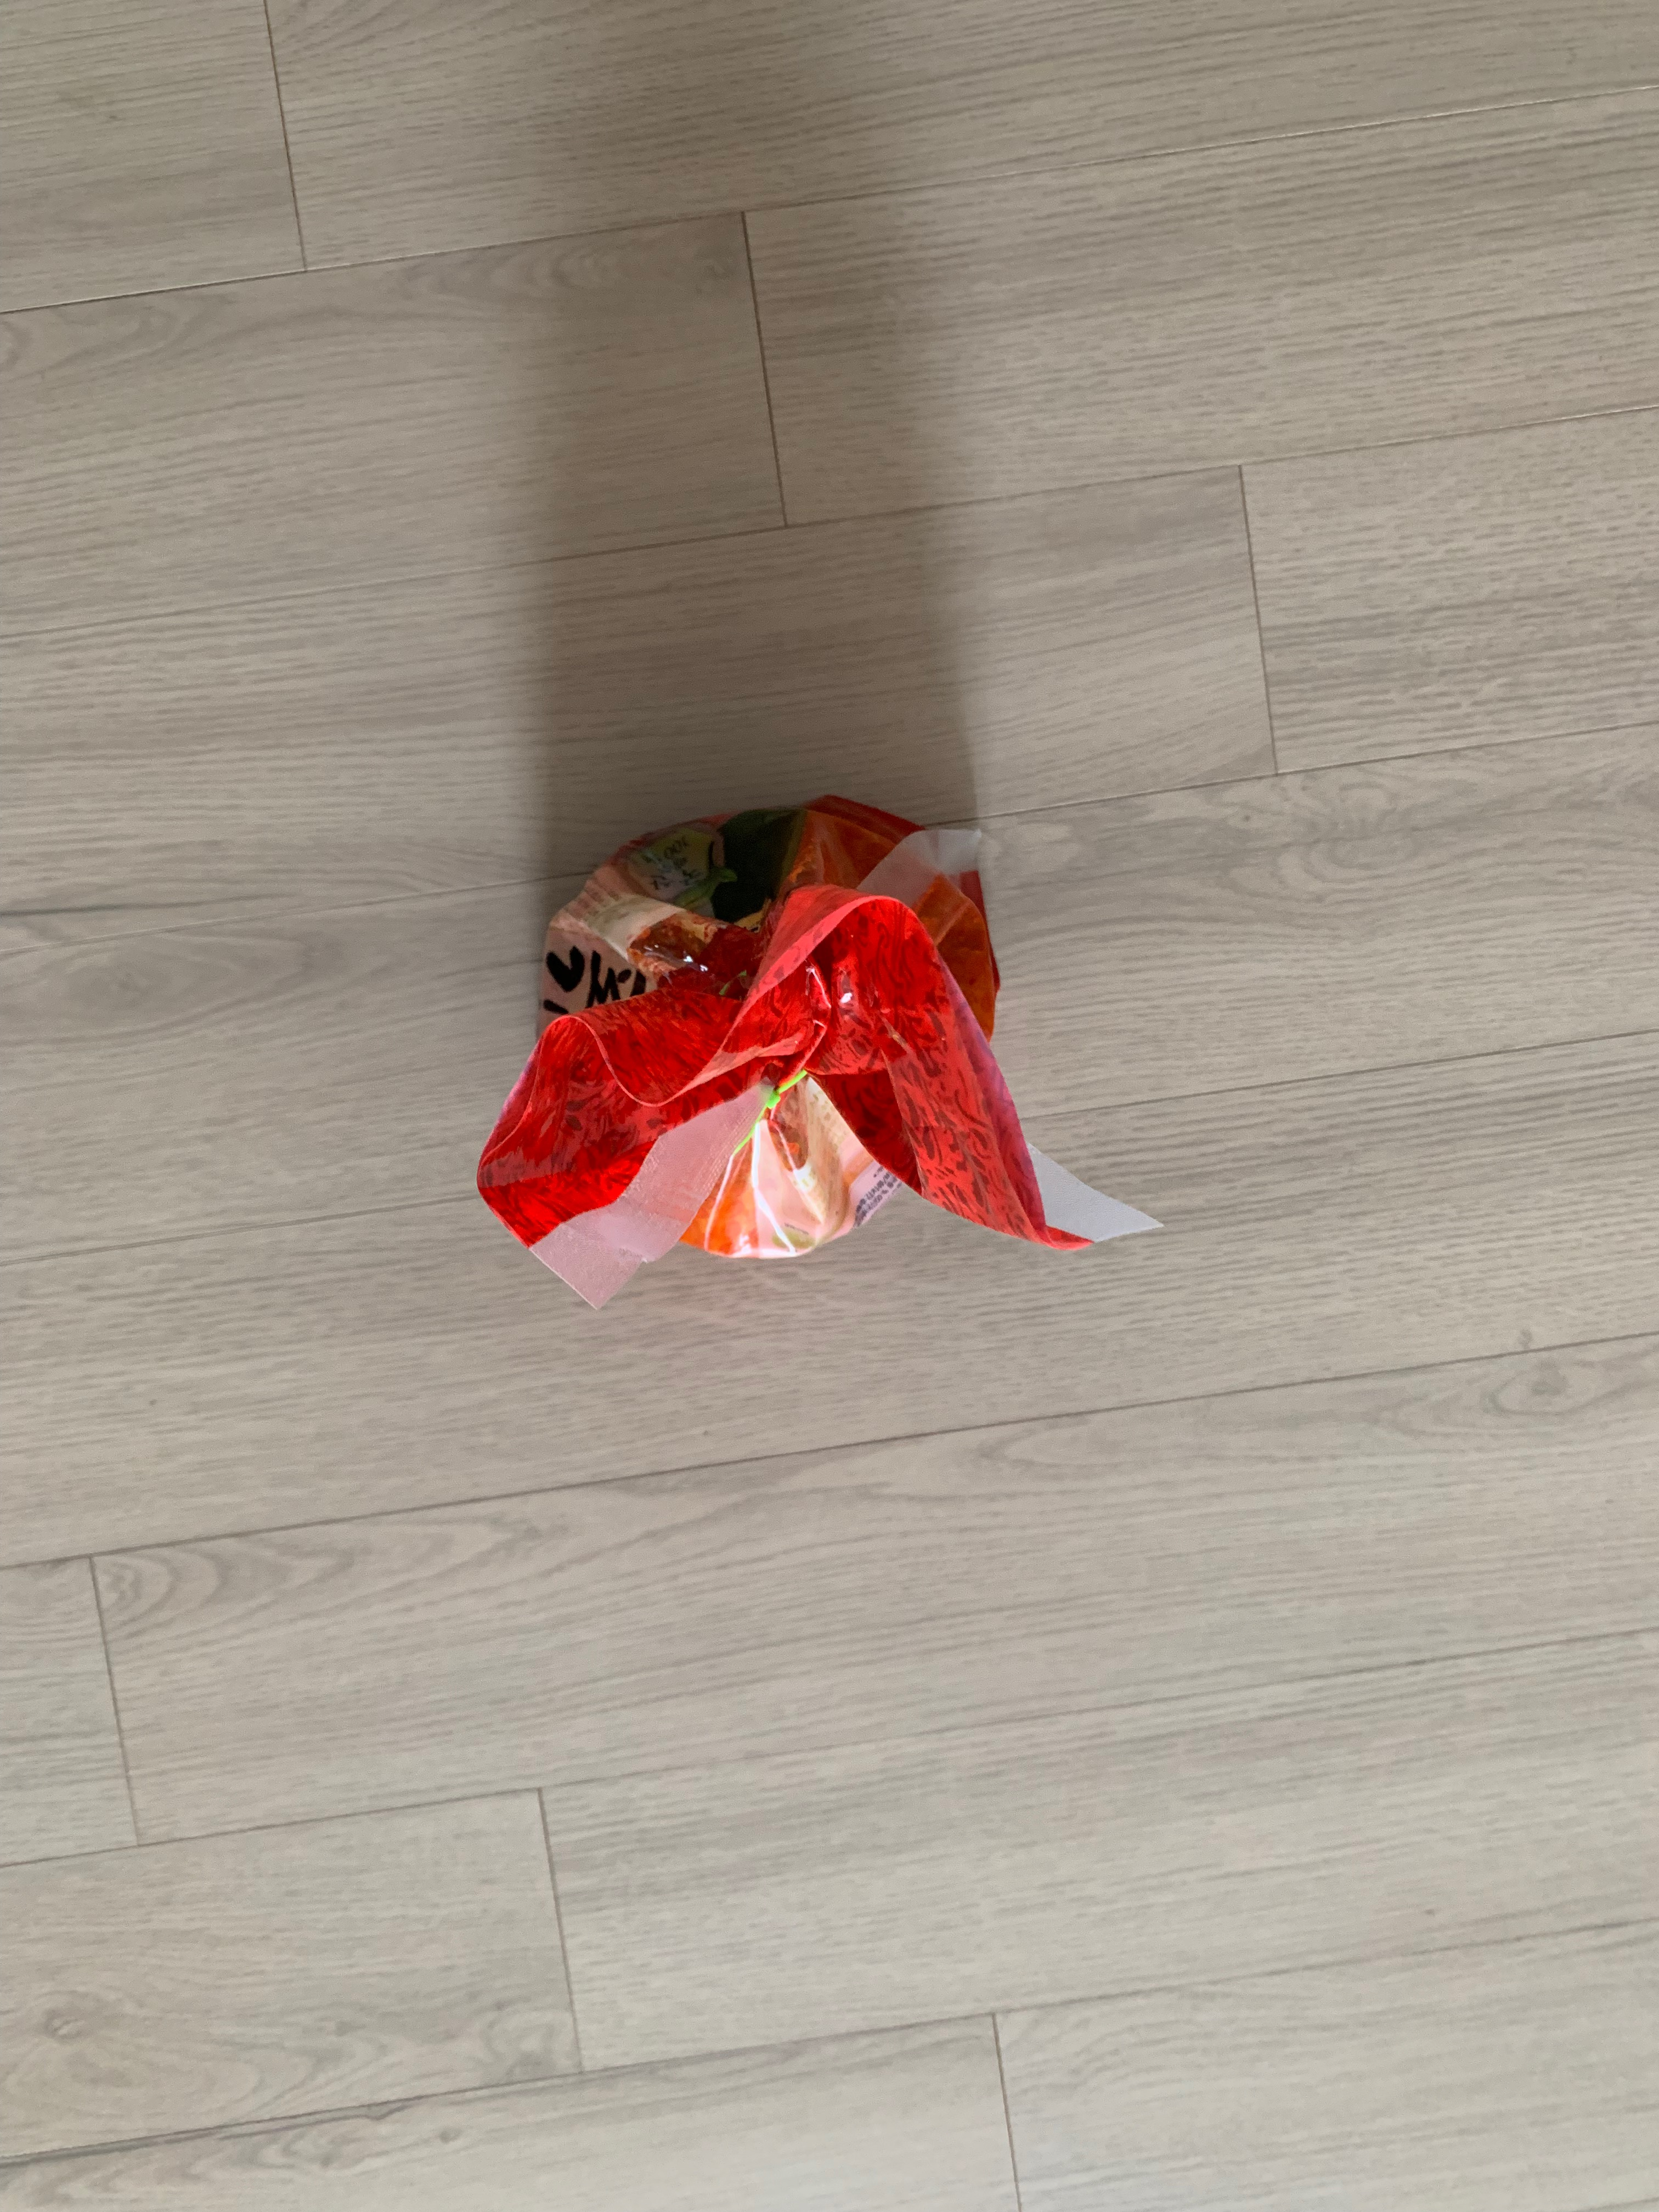kimchi: (481, 799, 1091, 1263)
